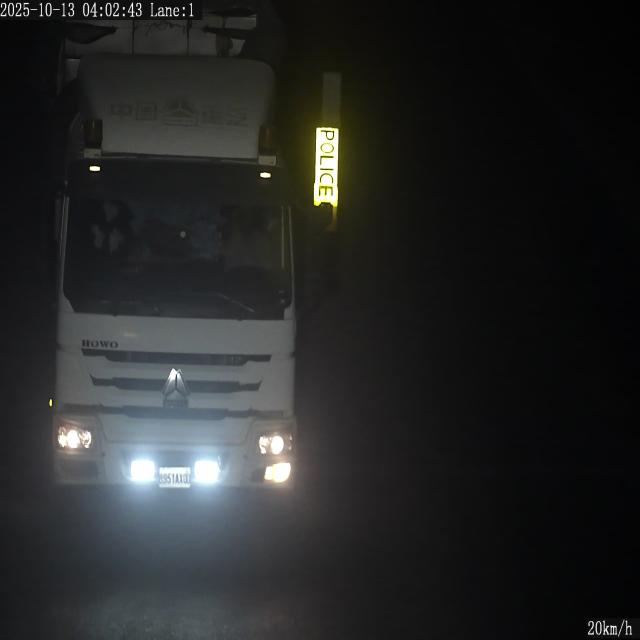BUS: (160, 468, 190, 487)
